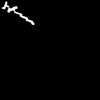double_crochet: (2, 2, 33, 24)
